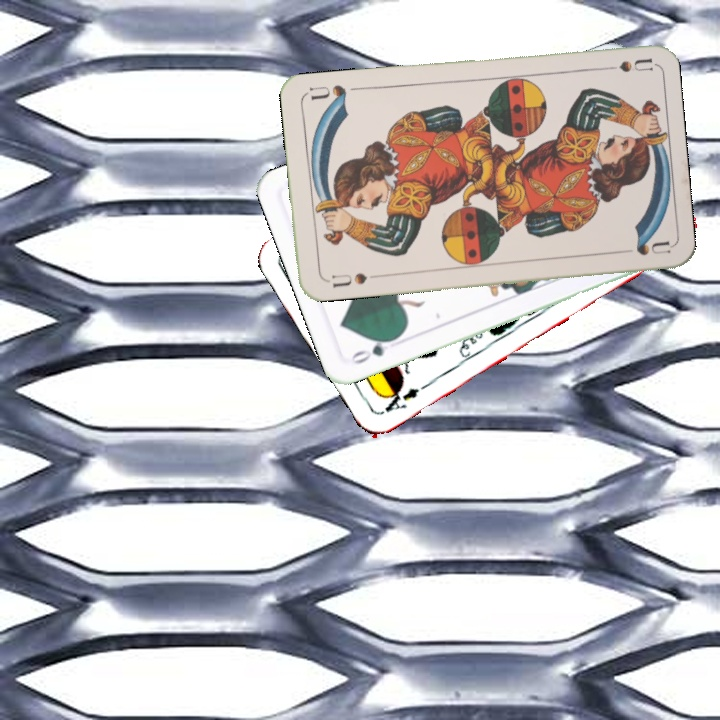EA: (379, 378, 432, 416)
GO: (347, 333, 401, 367)
SU: (321, 268, 380, 291), (594, 54, 653, 75)
